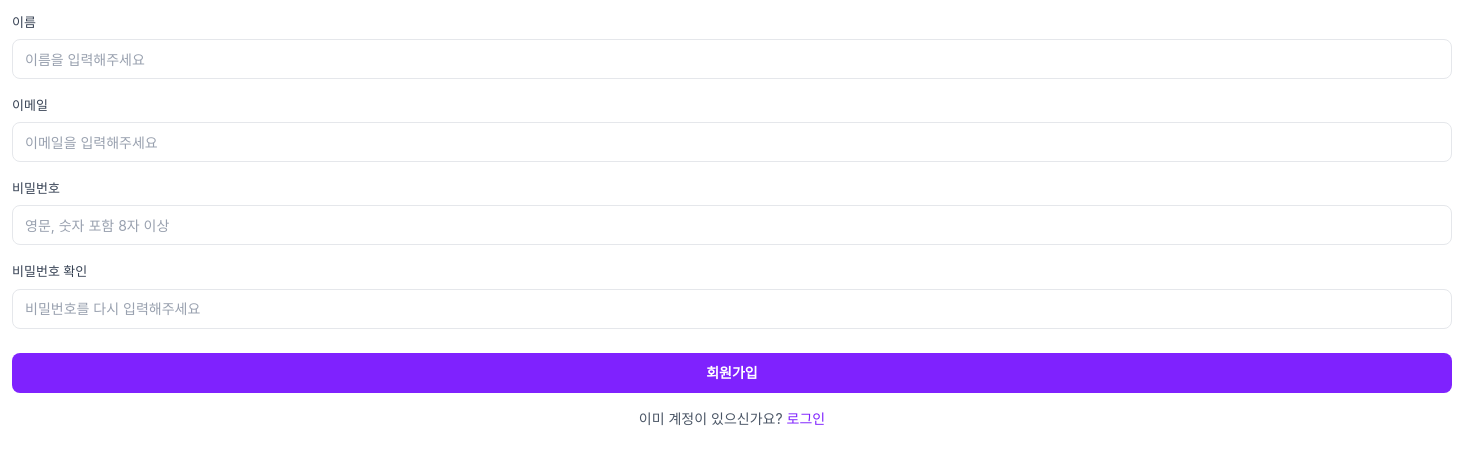
Test: SignupForm › 비밀번호에 영문자가 없으면 에러 메시지가 표시된다
Type "12345678" into the password field labelled "비밀번호" at (732, 225), box 12,205 -> 1452,245
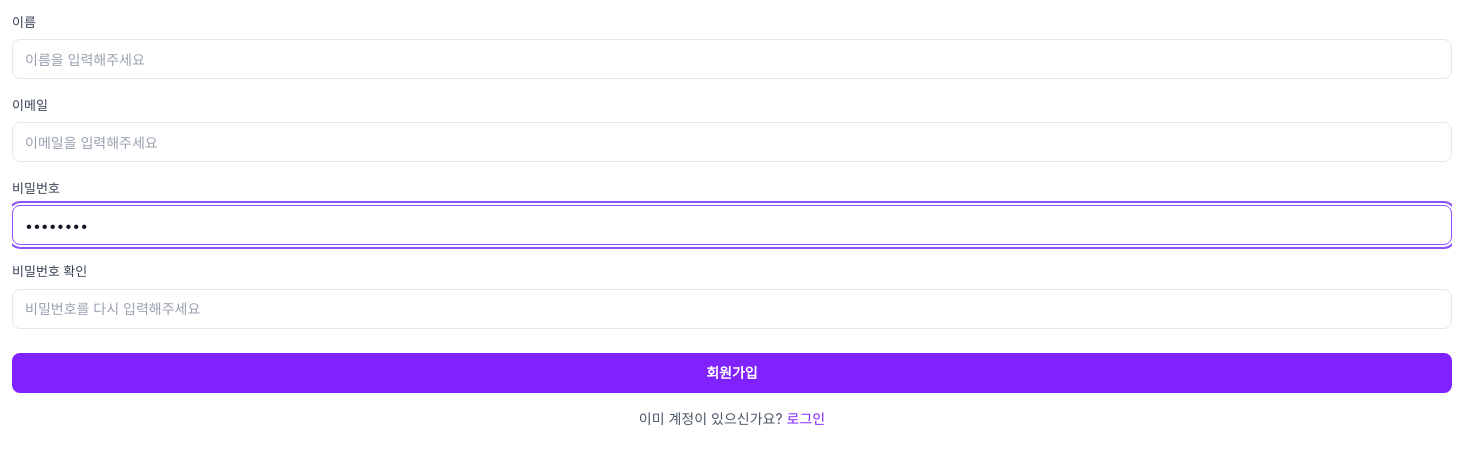
Press Tab
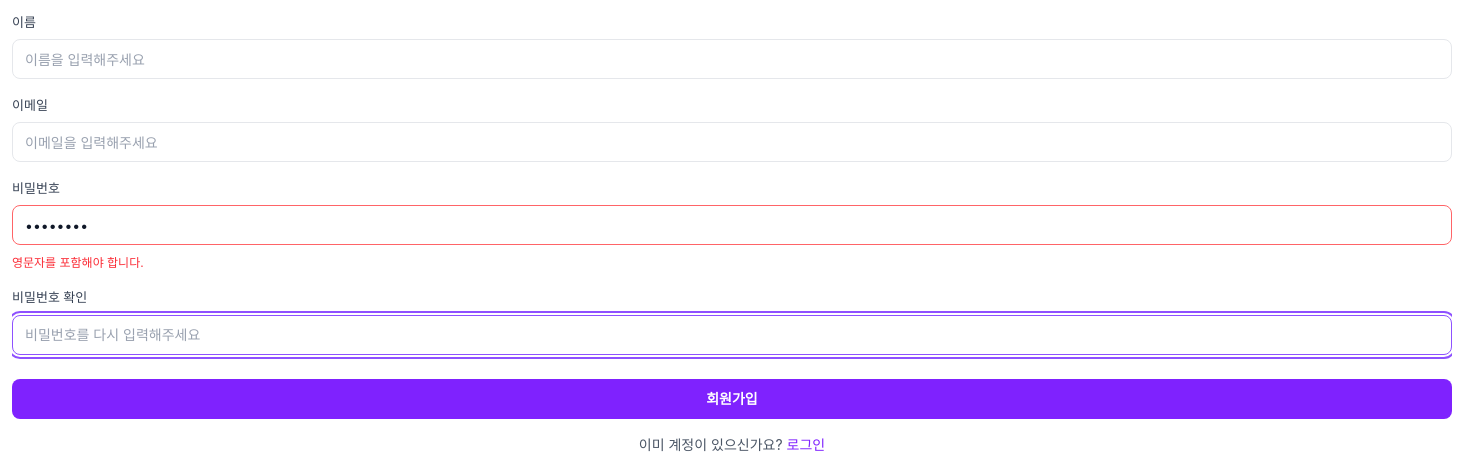
Expected: the text "영문자를 포함해야 합니다." is shown, 12,255 -> 144,270
